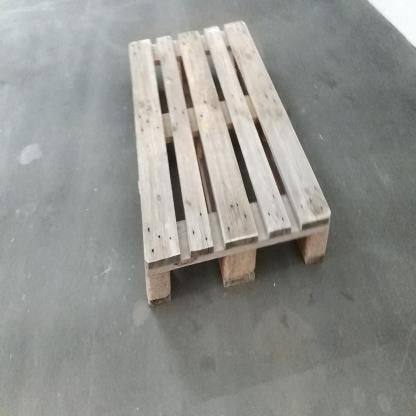BoxFace: (126, 14, 335, 314)
